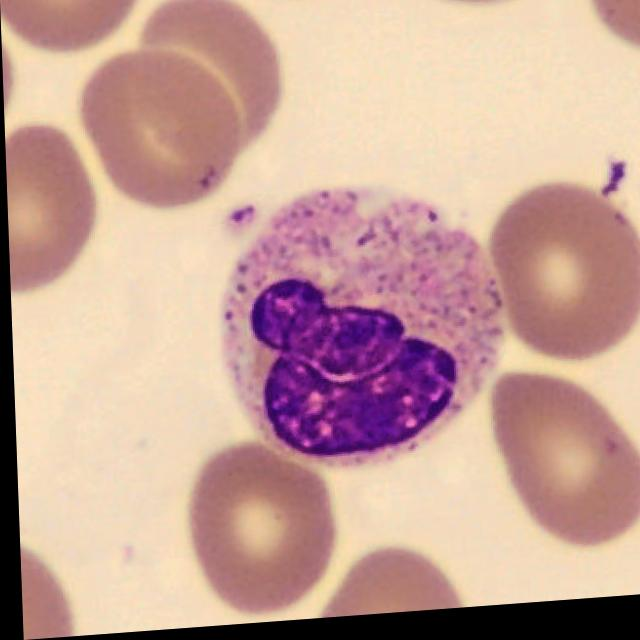Neutrofilo segmentado: (218, 192, 503, 475)
